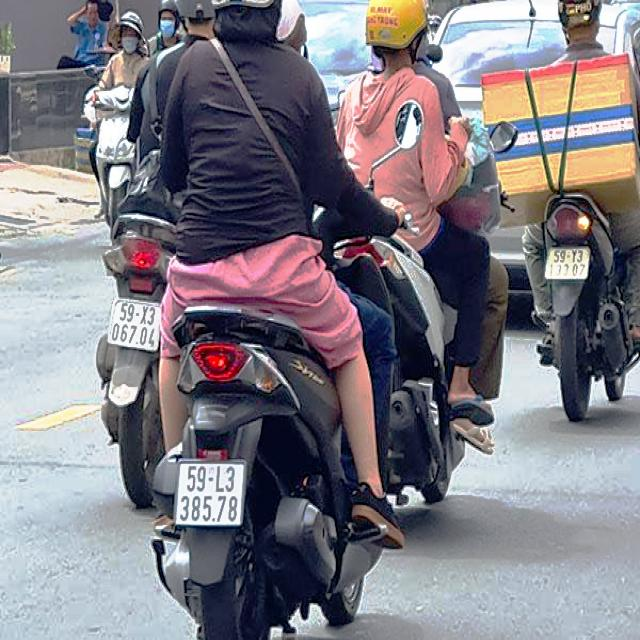license_plate: (175, 461, 248, 525), (107, 299, 166, 353), (546, 249, 592, 280)
